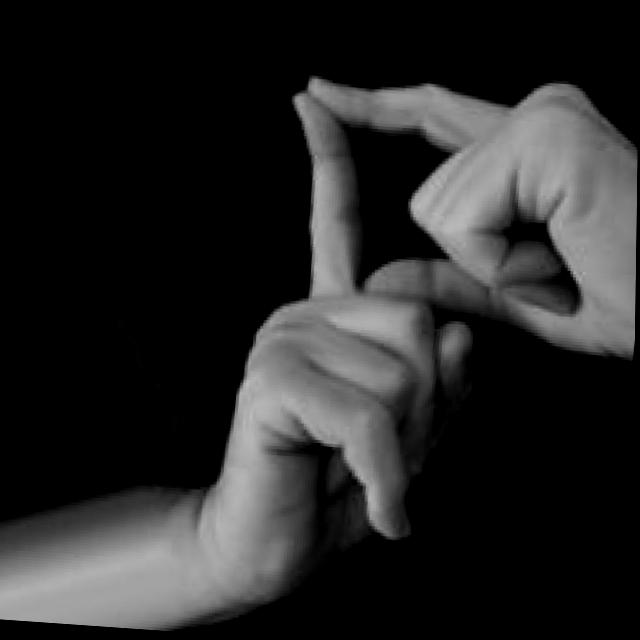D: (191, 38, 639, 640)
